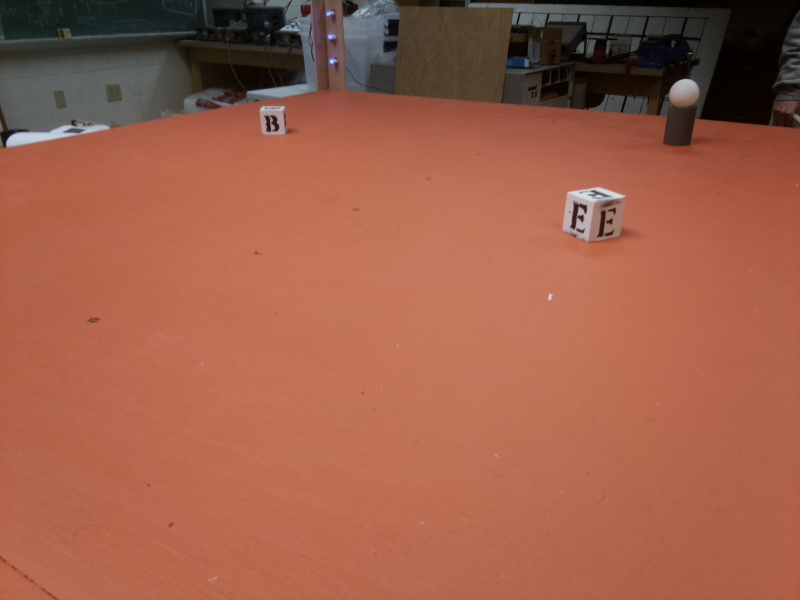blockB: (258, 107, 290, 137)
blockE: (563, 184, 627, 242)
corner: (311, 1, 343, 94)
obstacle: (662, 82, 701, 148)
